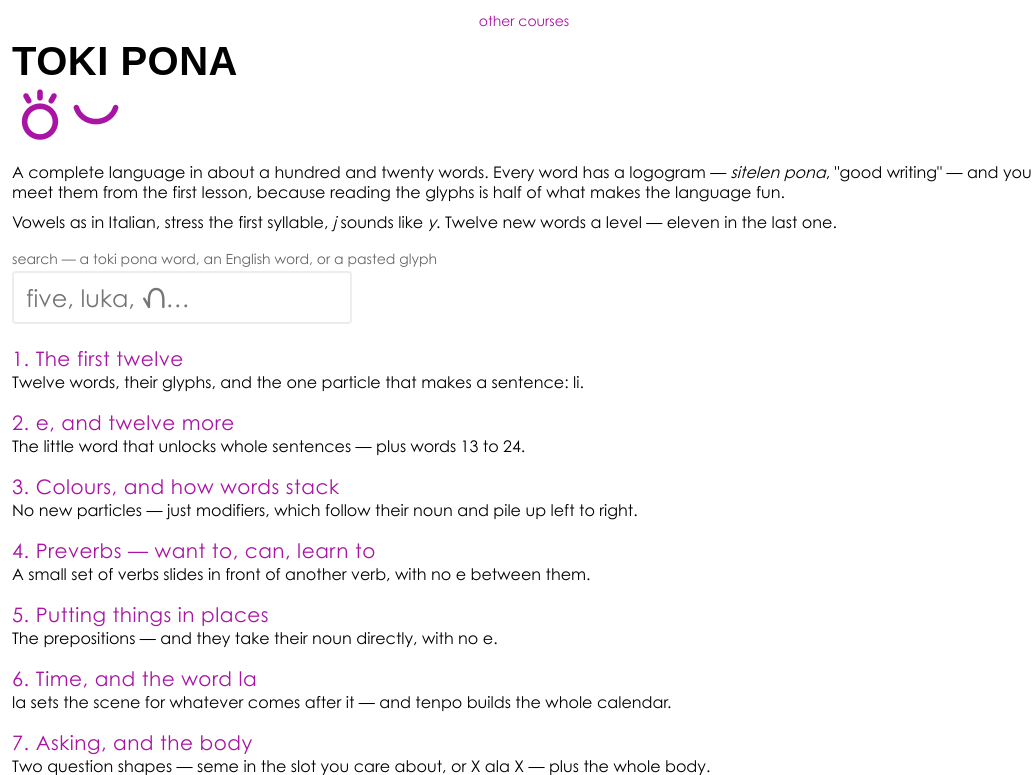
Test case: prototype keys must not crash the page › a prototype key reports no match rather than exploding
Type "constructor" into the field labelled "search" at (182, 297), box top-left (12, 271), bottom-right (352, 324)
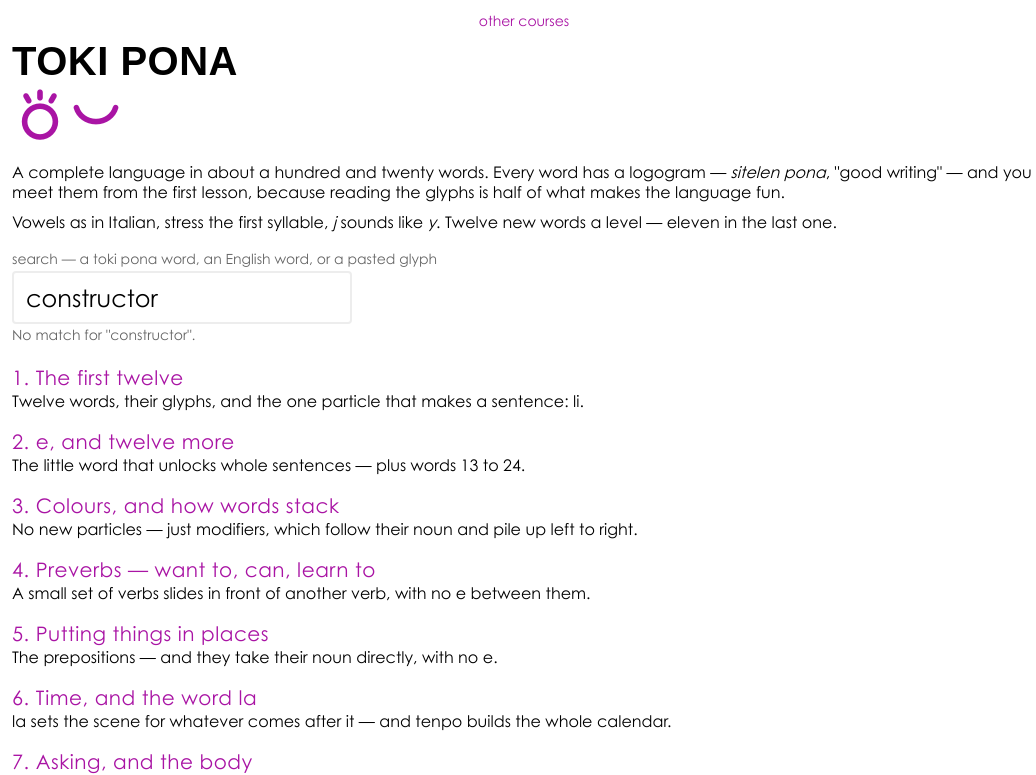
Expected: the text "No match for \"constructor\"." is shown, top-left (12, 326), bottom-right (195, 343)
